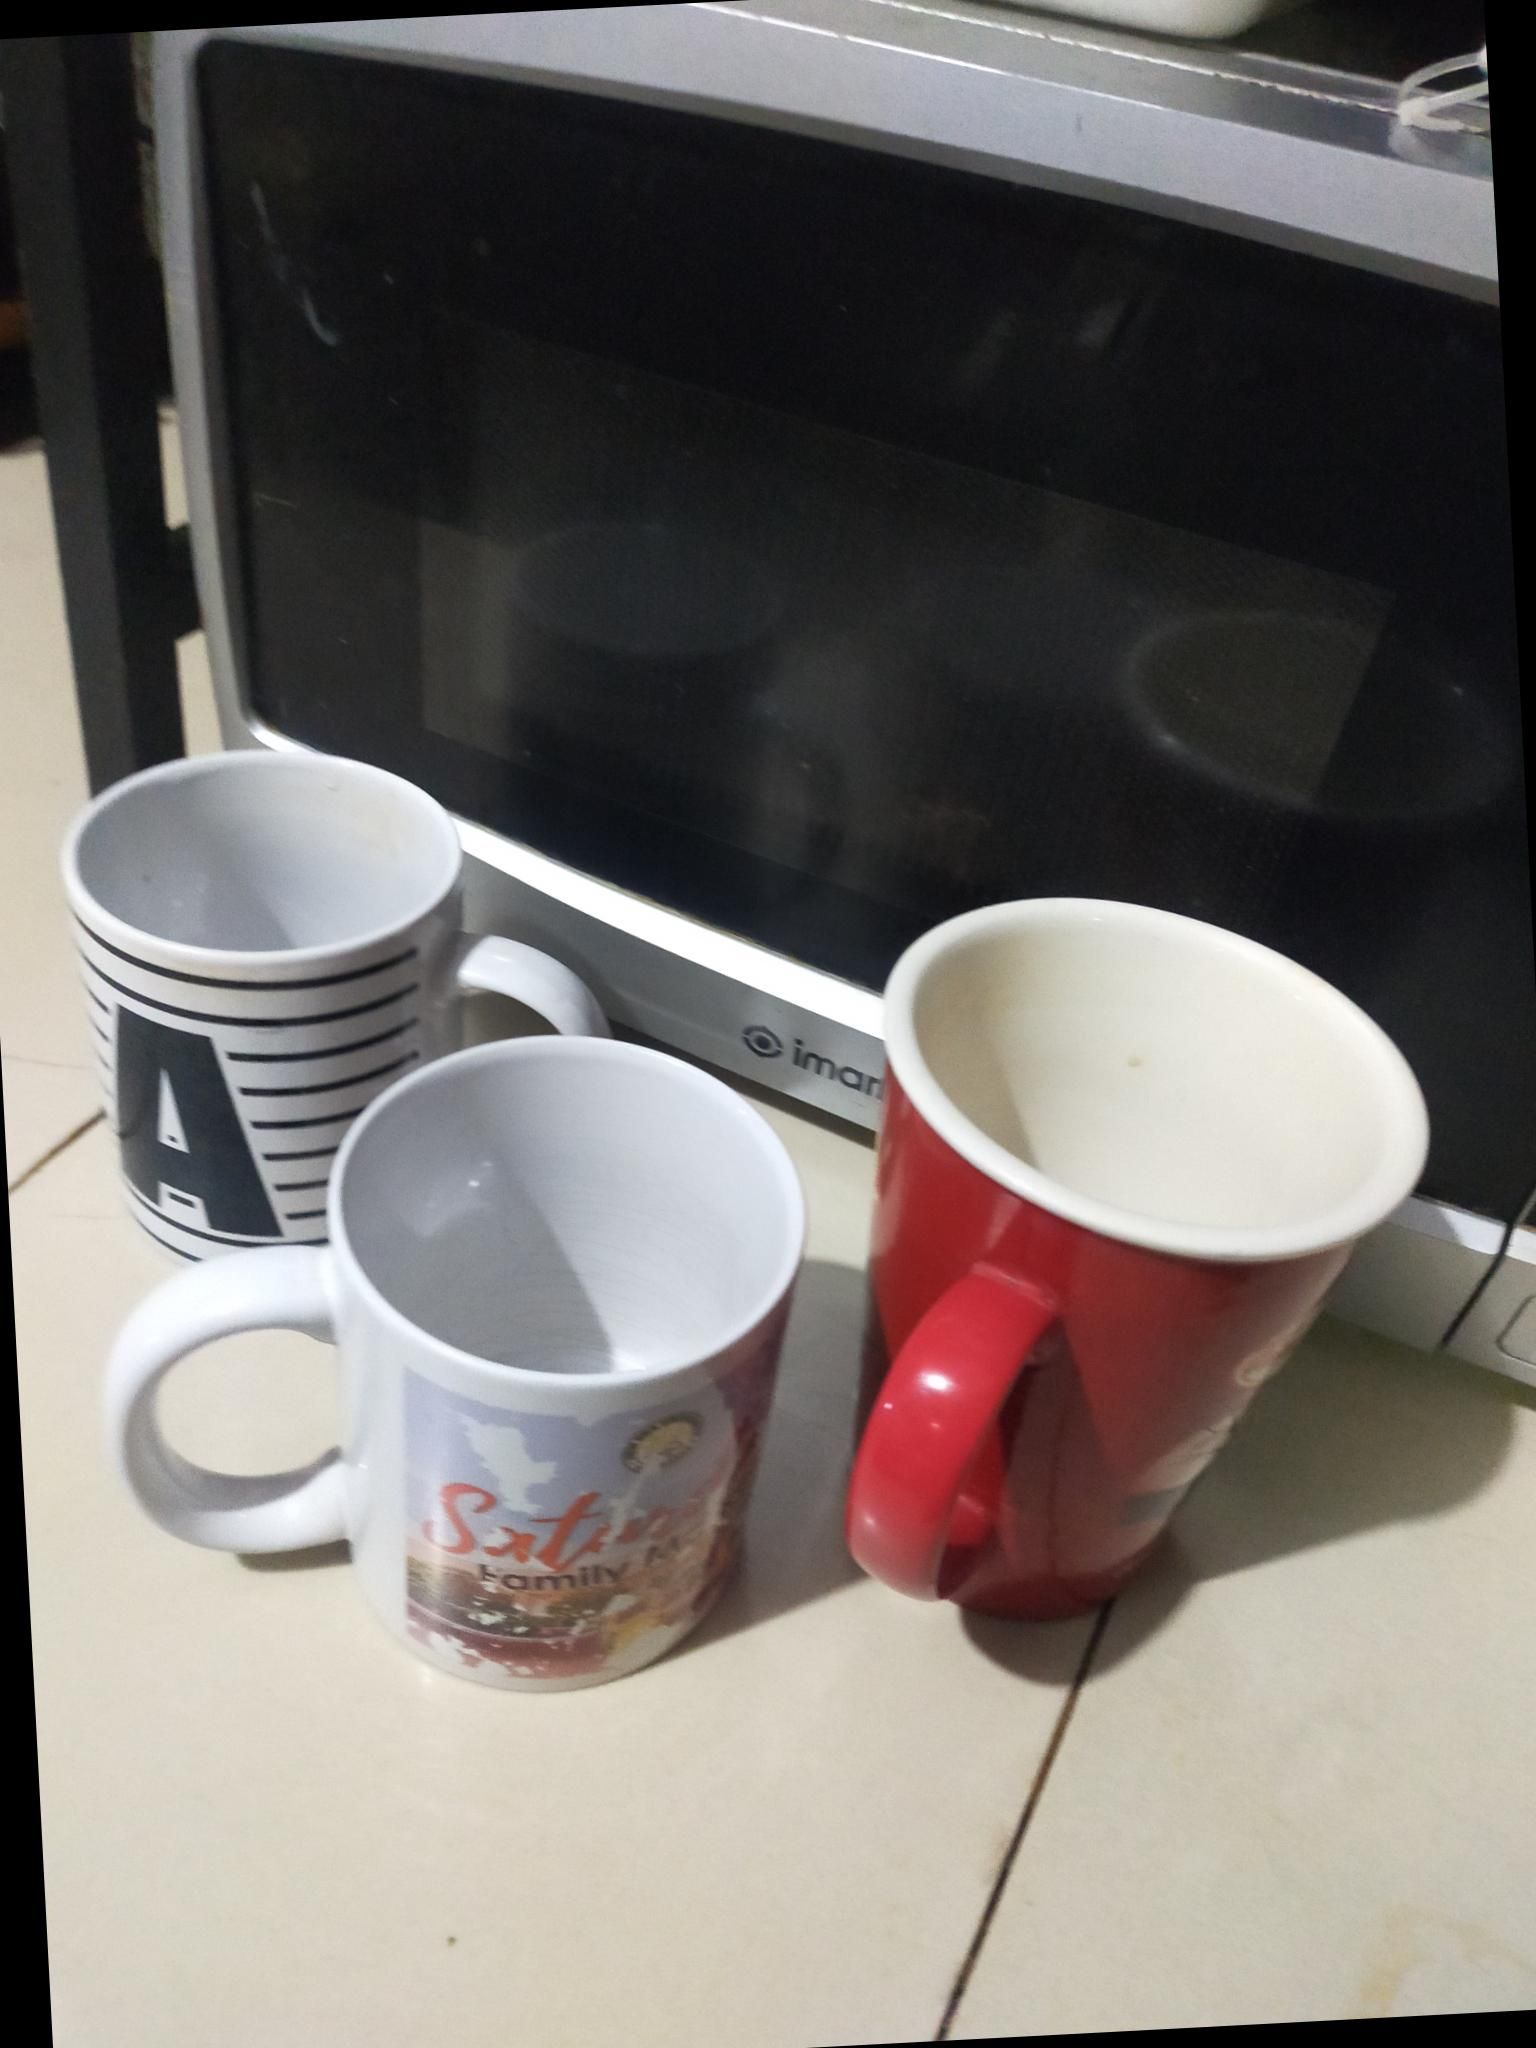Coffee Mug: (90, 1027, 828, 1703), (815, 872, 1452, 1629), (65, 734, 620, 1269)
